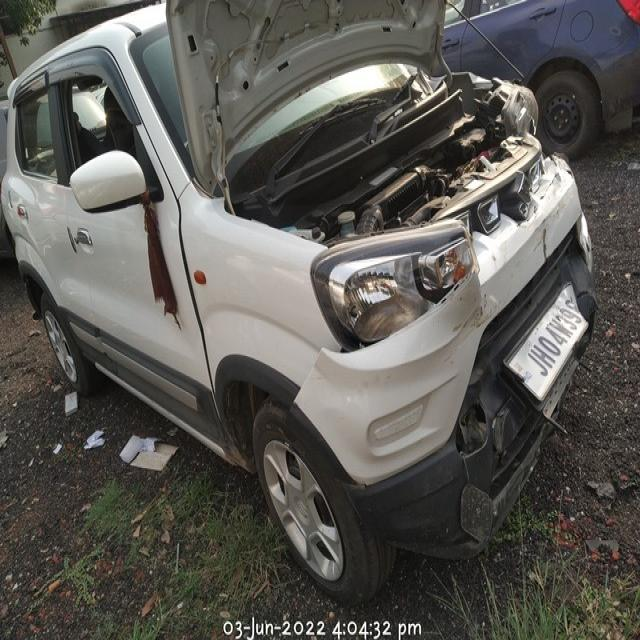damage: (292, 262, 486, 428), (534, 269, 601, 403), (526, 185, 573, 268), (463, 393, 490, 456)
